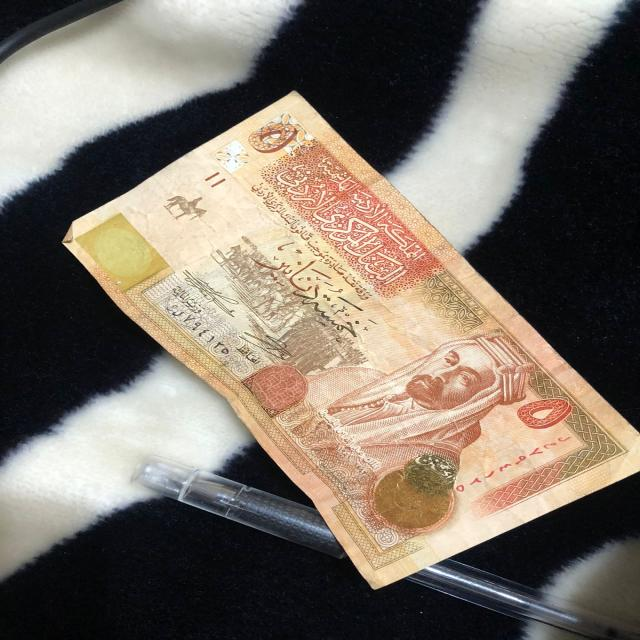5-dinar: (59, 87, 640, 591)
